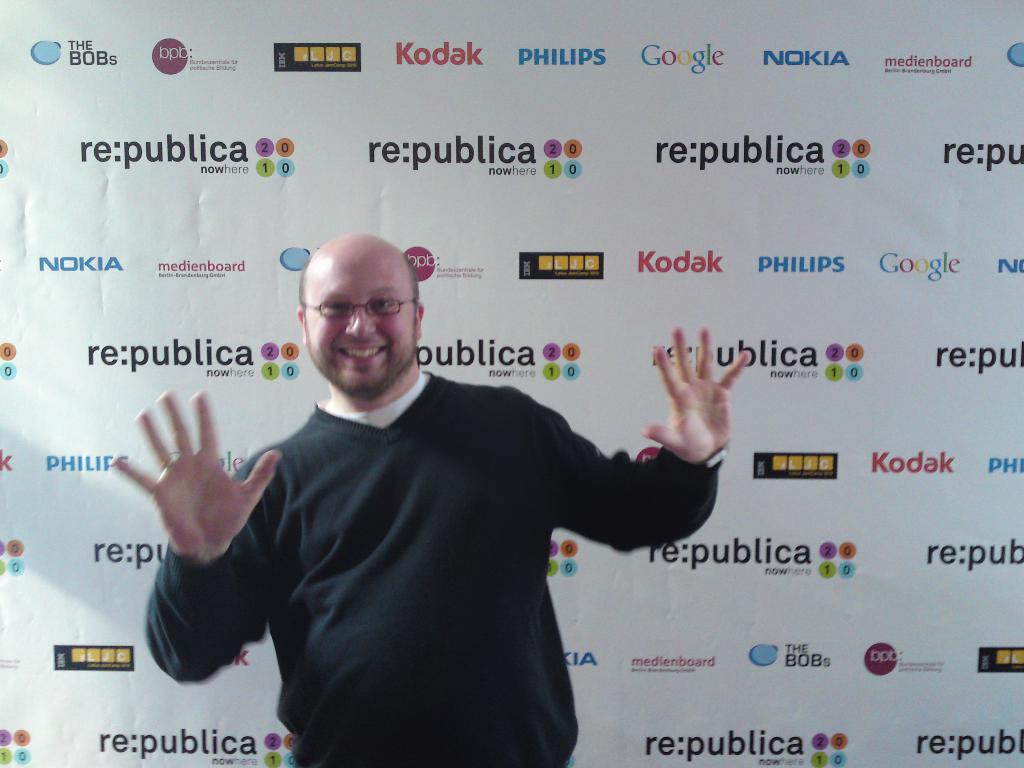Person: (109, 232, 749, 767)
